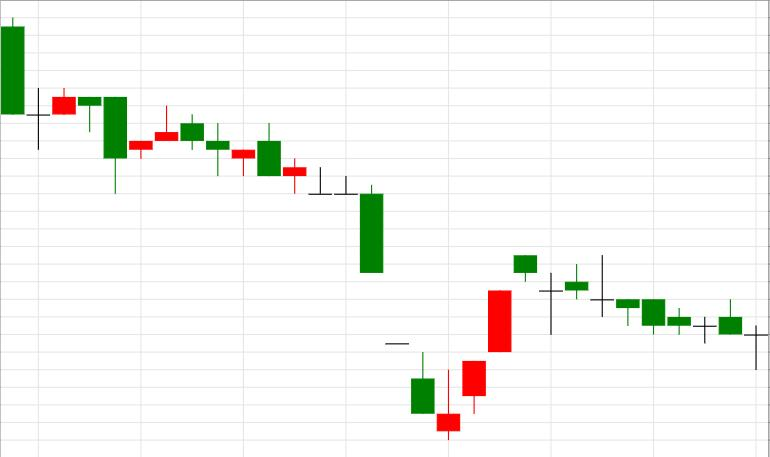inverse_hammer_rise: (309, 167, 460, 440)
three_white_soldiers_rise: (308, 167, 511, 439)
